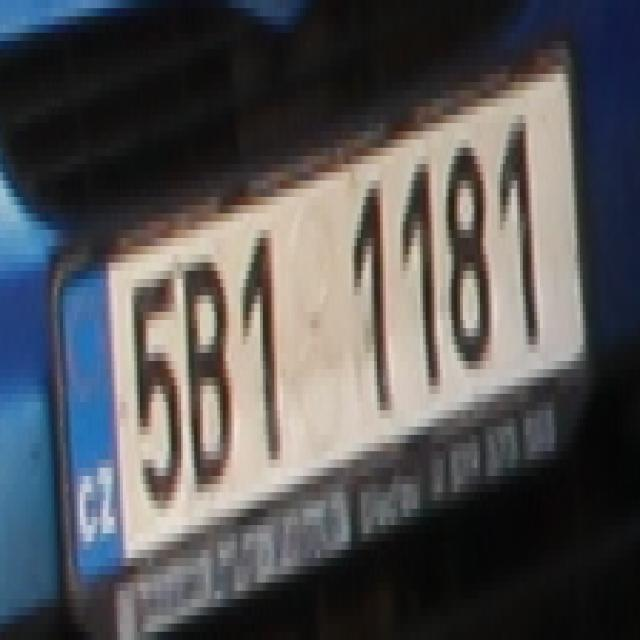1: (494, 98, 546, 344), (348, 172, 388, 427), (240, 222, 280, 468), (400, 147, 440, 386)
5: (123, 254, 180, 509)
8: (442, 123, 494, 378)
B: (183, 246, 234, 484)
